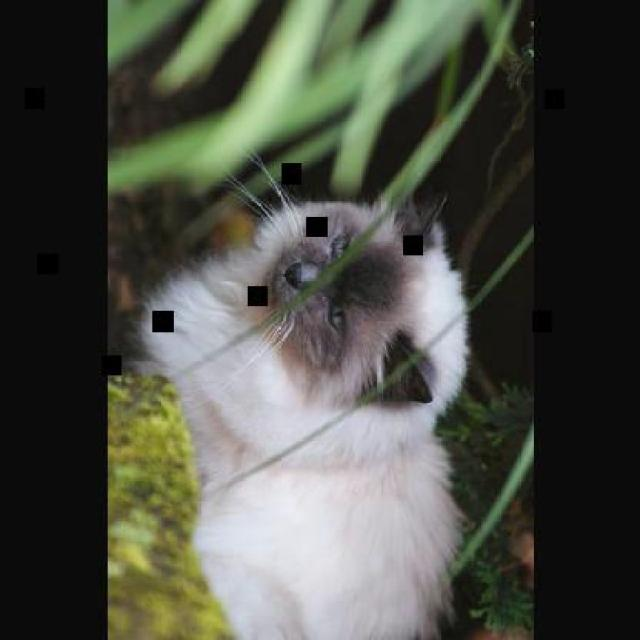unauthorized: (121, 152, 472, 638)
